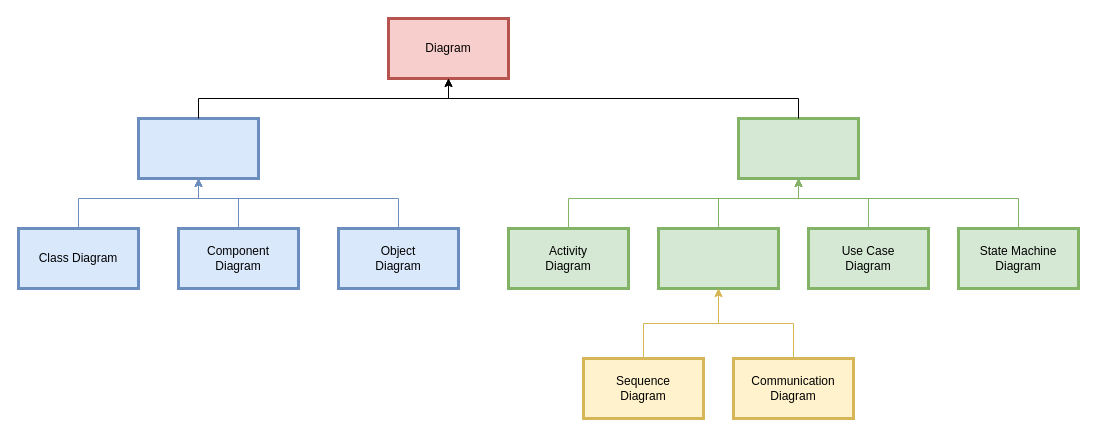
Some shapes in this 1097 by 437 pixel diagram are drawn without their labels. Here are the shapes that lost their labels. From the top down, the centre of each, then its label:
At pixel 198 148: "Structure Diagram".
At pixel 798 148: "Behaviour Diagram".
At pixel 718 258: "Interaction Diagram".
